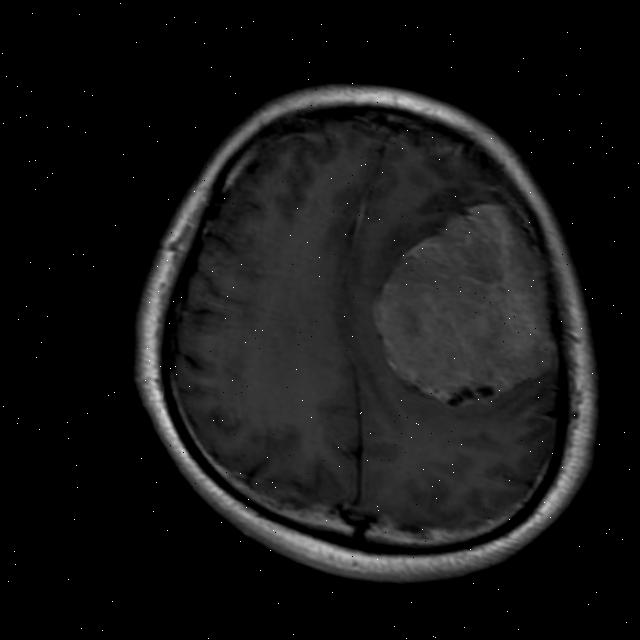Meningioma: (347, 176, 592, 435)
